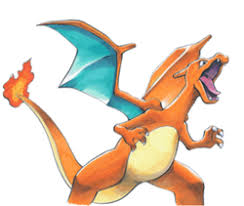charizard: (4, 18, 229, 206)
